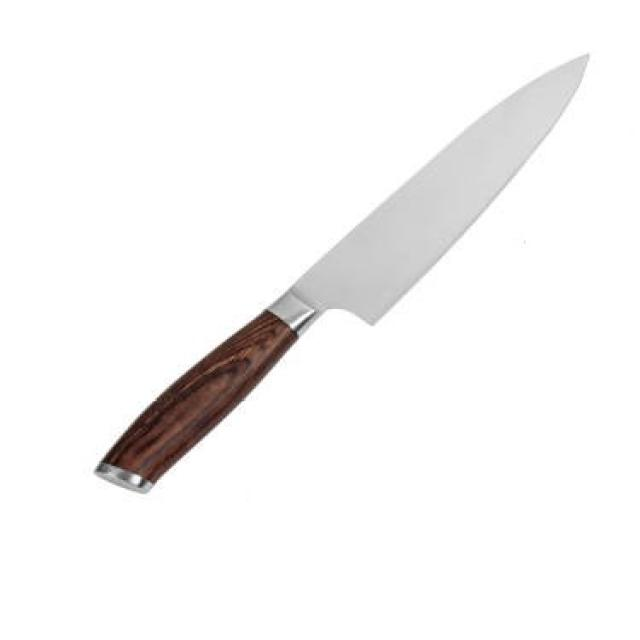knife: (80, 45, 603, 515)
